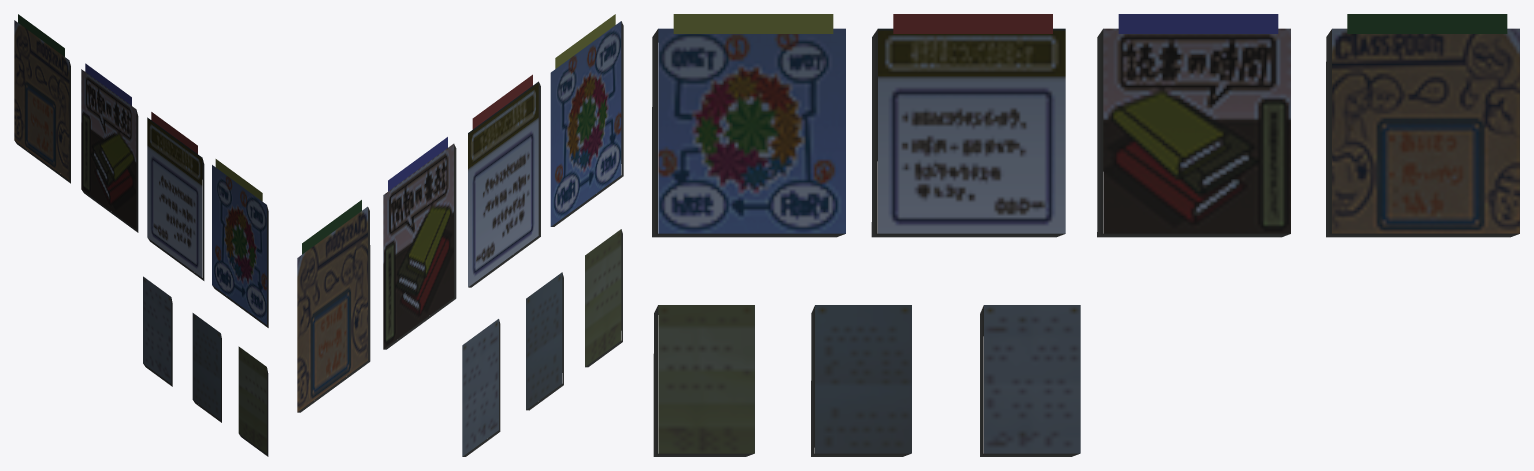
File: HW_infoBNig.FBX
3 renders of one model, left to right at view 1: azimuth 30°, elevation 25°; view 2: azimuth 150°, elevation 25°; view 3: azimuth 270°, elevation 25°, orthographic. The views are drawn at different scales.
Visible parts, largest first — view 1: HW_infoB_nig00; view 2: HW_infoB_nig00; view 3: HW_infoB_nig00.
Boxes of the visible parts, <box> form: HW_infoB_nig00: <box>14,14,268,456</box>; HW_infoB_nig00: <box>297,14,623,456</box>; HW_infoB_nig00: <box>652,14,1519,456</box>.
Bounding box in the file's own units: 0.0536 × 123 × 219.
